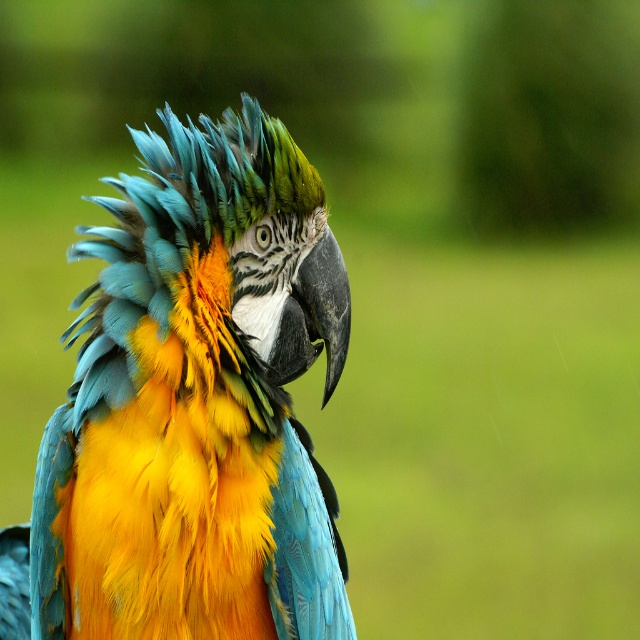Parrot: (0, 90, 355, 639)
